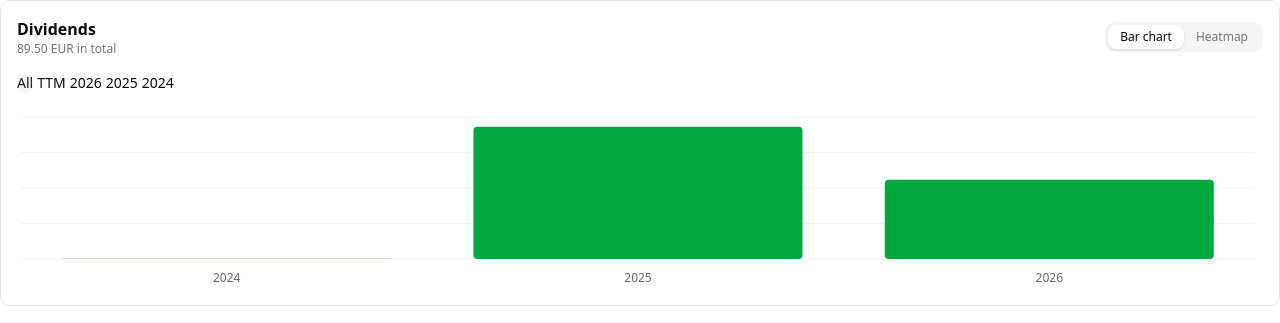
Test: DividendsCard › rolls the last twelve months rather than cutting at January
The width and height of the screenshot is (1280, 323).
Click the button "TTM" at (51, 83), box [37,73,66,93]
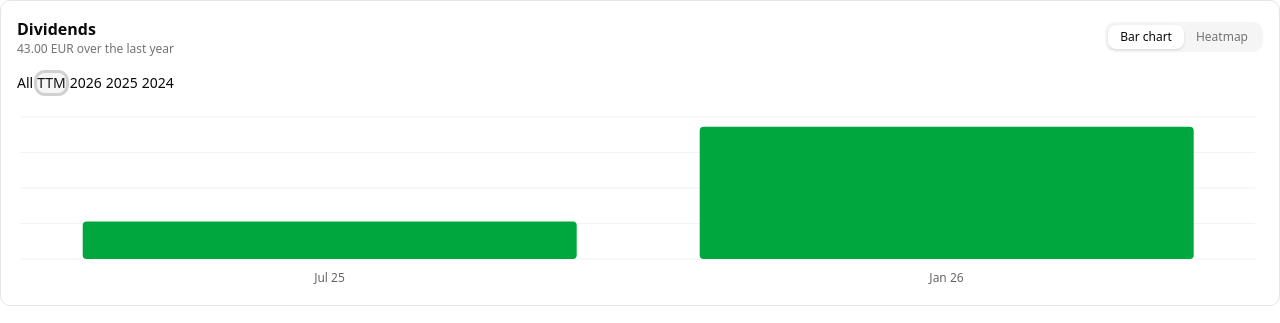
Now the text "43.00 EUR over the last year" is shown, box [17,41,174,57]
